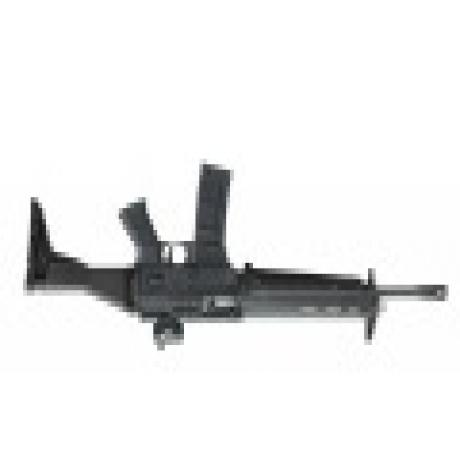weapon: (22, 158, 460, 352)
